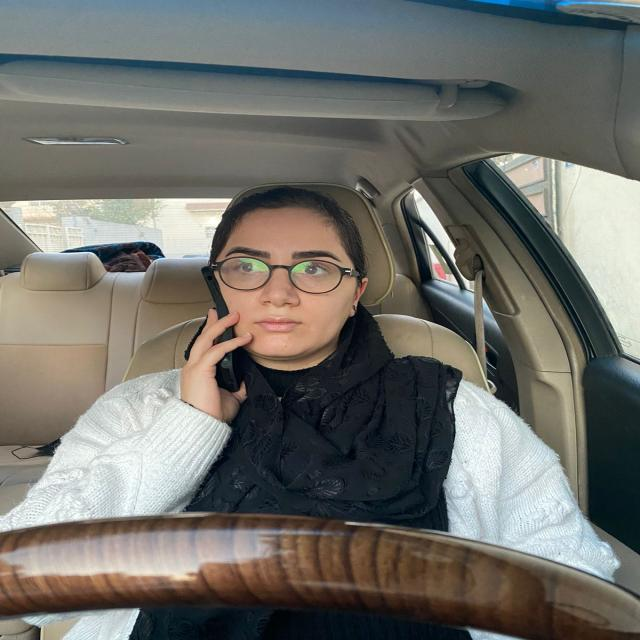mobile: (196, 260, 251, 353)
person: (196, 183, 381, 367)
